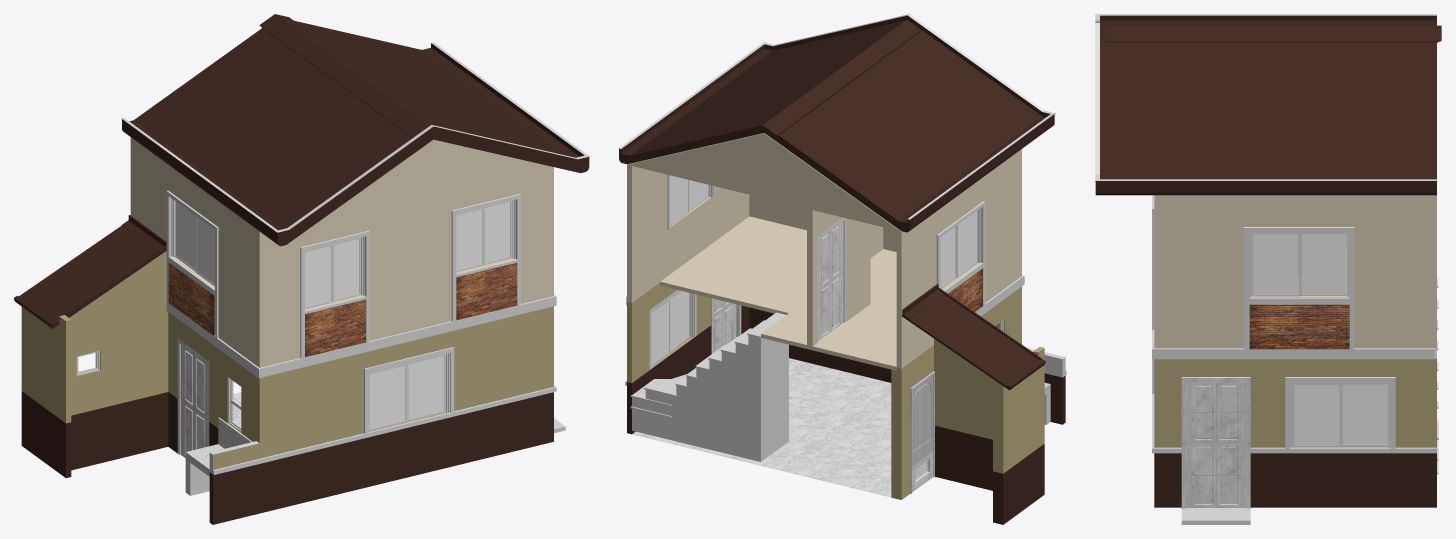
File: jasmine_interior.glb
3 renders of one model, left to right at view 1: azimuth 30°, elevation 25°; view 2: azimuth 150°, elevation 25°; view 3: azimuth 270°, elevation 25°, orthographic. The views are drawn at different scales.
Parts seen in each view (by area): view 1: Cube.039; view 2: Cube.039; view 3: Cube.039.
Part boxes in pixels (bbox=[...]): Cube.039: bbox=[14, 14, 589, 524]; Cube.039: bbox=[618, 14, 1066, 524]; Cube.039: bbox=[1095, 14, 1441, 524].
Bounding box in the file's own units: 7.52 × 6.19 × 4.74.
16 materials, 3 textured.
